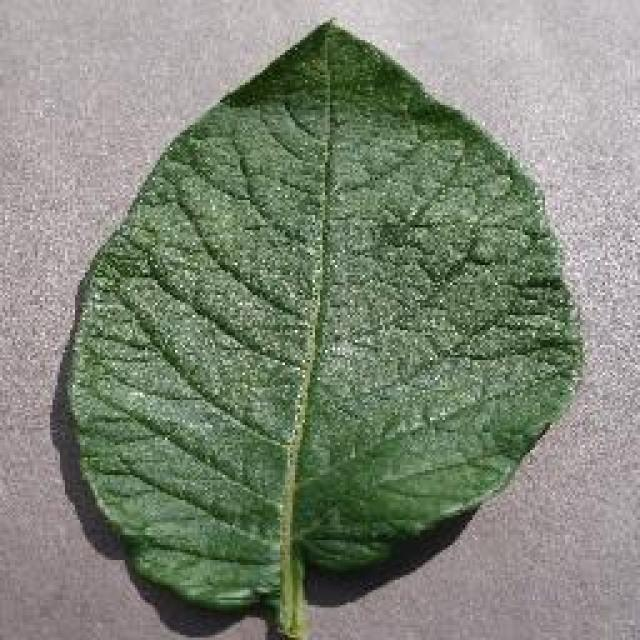healthy: (58, 15, 590, 637)
